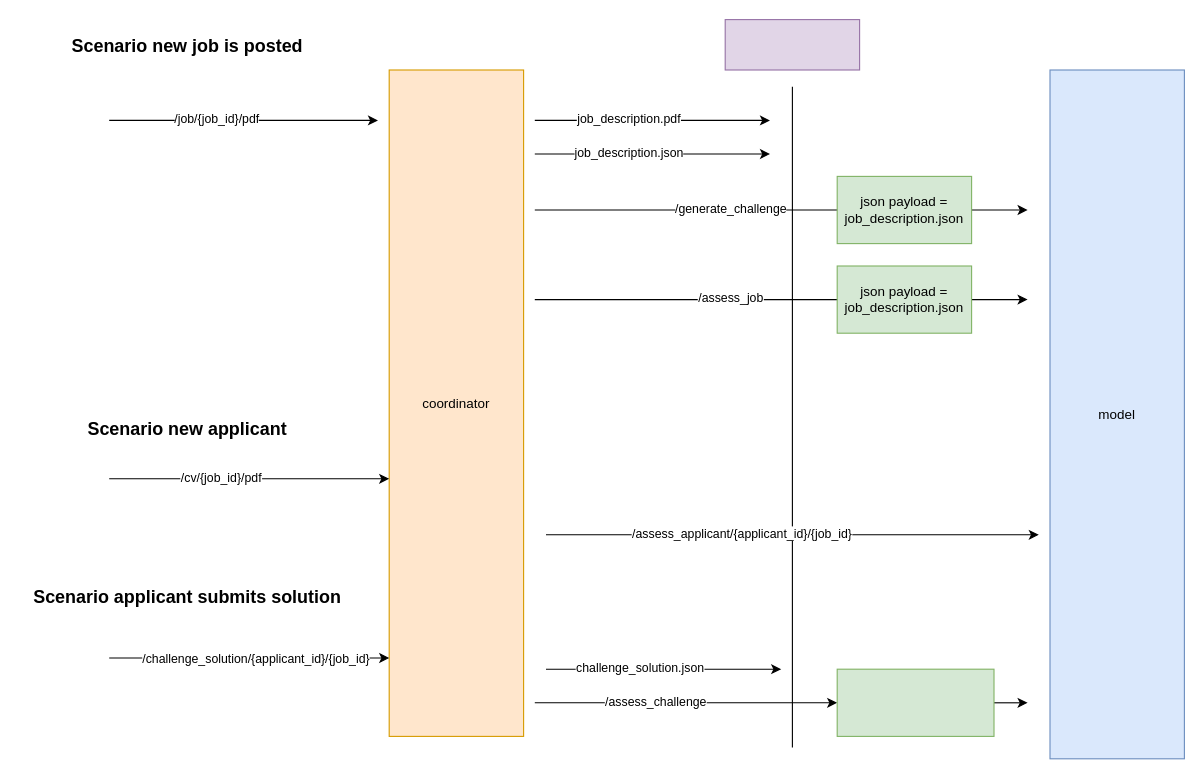
Some shapes in this 1204 by 778 pixel diagram are drawn without their labels. The shapes that lost their labels are listed below. From the top down, each one's centre as x and y in pixels, then its label:
At (x=792, y=44): "minio".
At (x=915, y=702): "json payload = challenge_solution.json".
